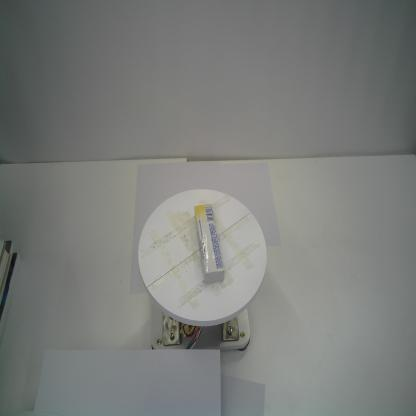Candy: (194, 203, 225, 284)
